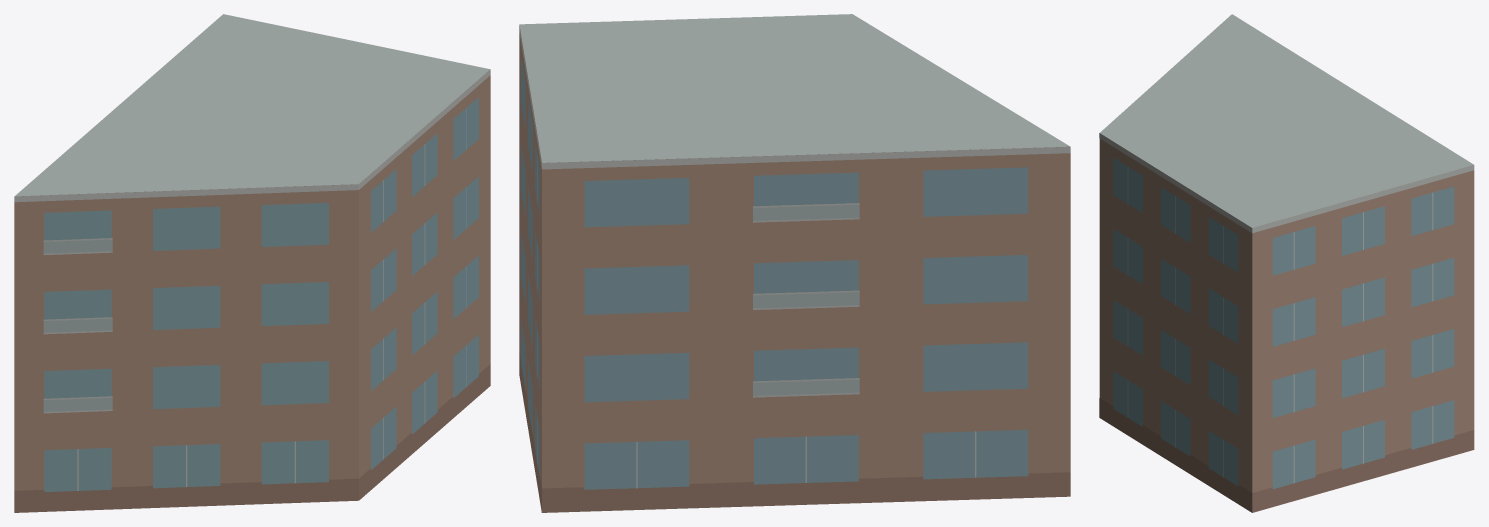
File: survey-upis-32735188.glb
3 views of the same model, side by side, from view 1: azimuth 30°, elevation 25°; view 2: azimuth 150°, elevation 25°; view 3: azimuth 270°, elevation 25° (orthographic). The views are drawn at different scales.
Parts seen in each view (by area): view 1: survey-upis-32735188.tmp; view 2: survey-upis-32735188.tmp; view 3: survey-upis-32735188.tmp.
Boxes of the visible parts, left/top/right/bottom form: survey-upis-32735188.tmp: left=14, top=14, right=490, bottom=512; survey-upis-32735188.tmp: left=519, top=14, right=1070, bottom=512; survey-upis-32735188.tmp: left=1099, top=14, right=1474, bottom=512.
Bounding box in the file's own units: 21.12 × 13.1 × 15.63.
